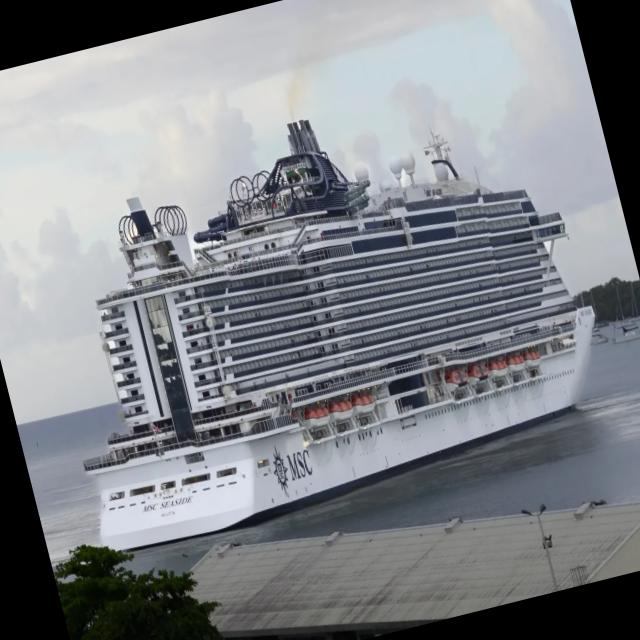Cruise: (83, 119, 594, 548)
